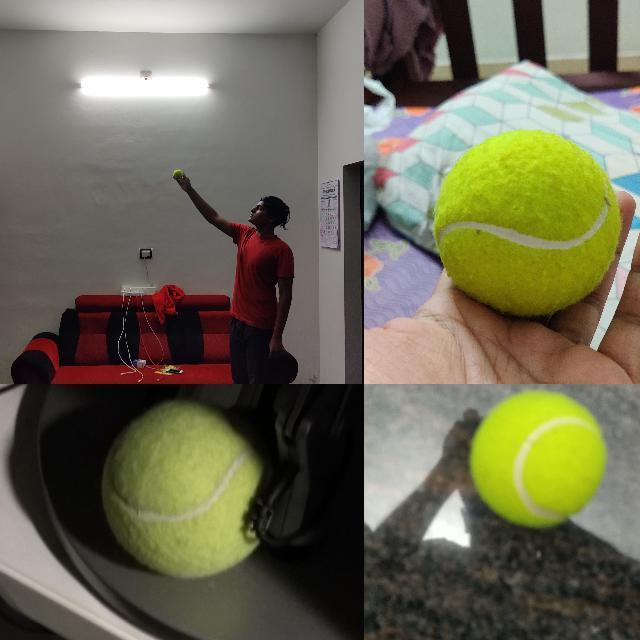tennis-ball: (431, 128, 623, 317), (100, 397, 249, 580), (468, 389, 606, 529), (173, 169, 183, 179)
